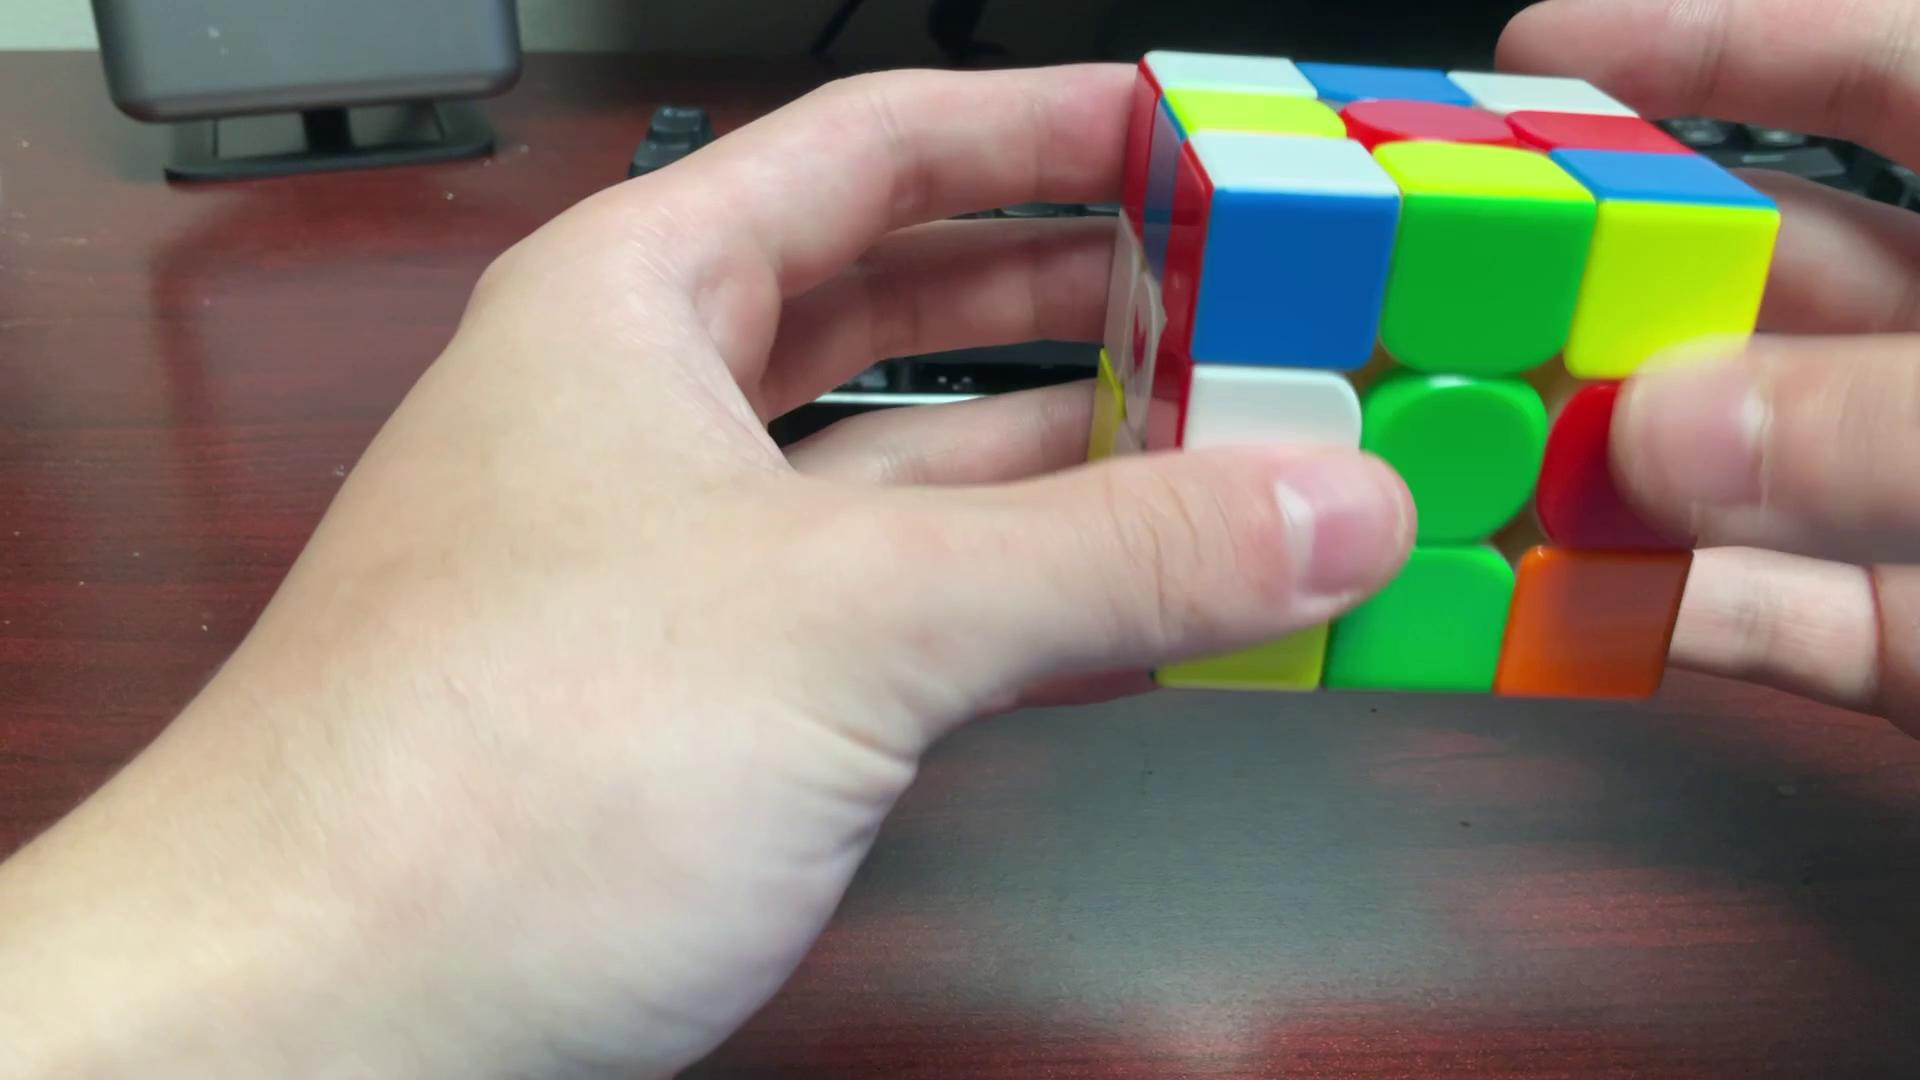Rubiks-Cube: (1056, 42, 1787, 715)
